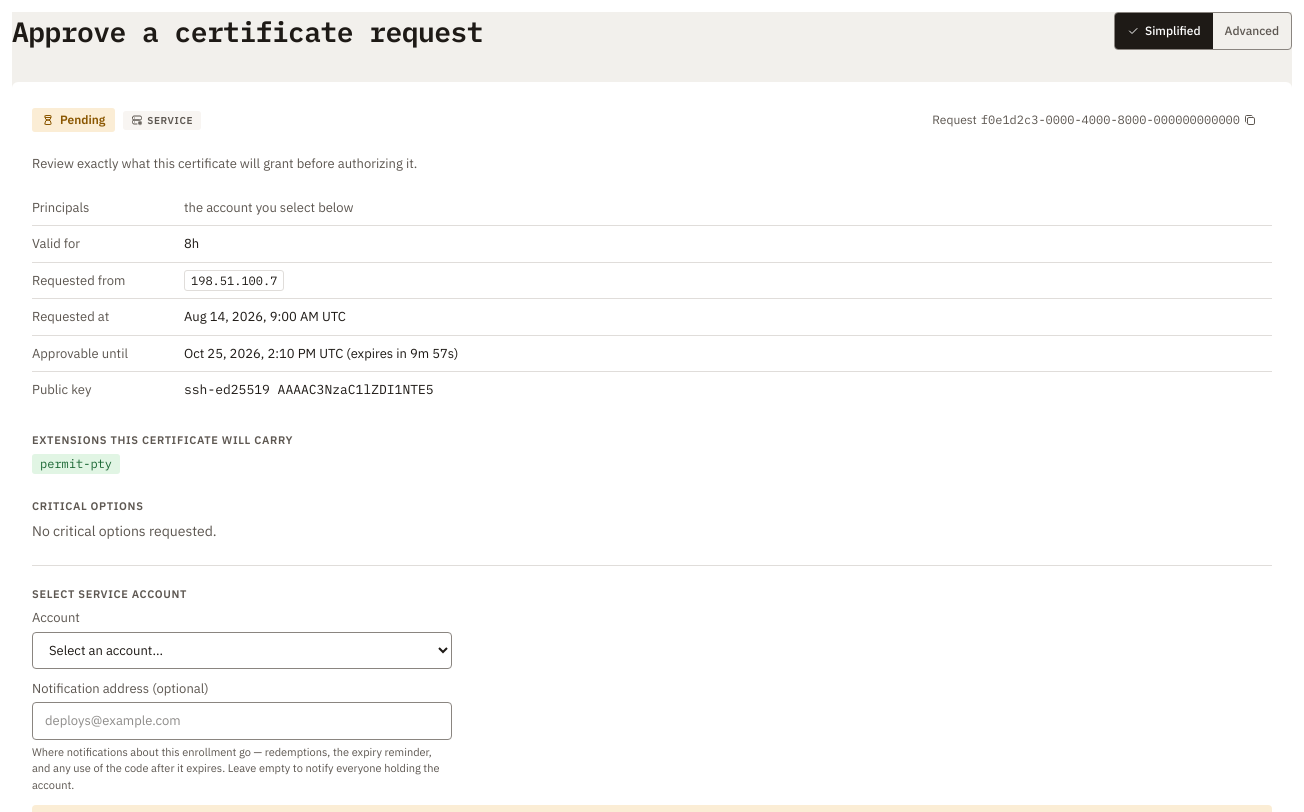
Test: ApprovalView › service account picker › the Principals row › should show the chosen service account
Select "svc-b" in the dropdown at (242, 650), box [32, 632, 452, 668]
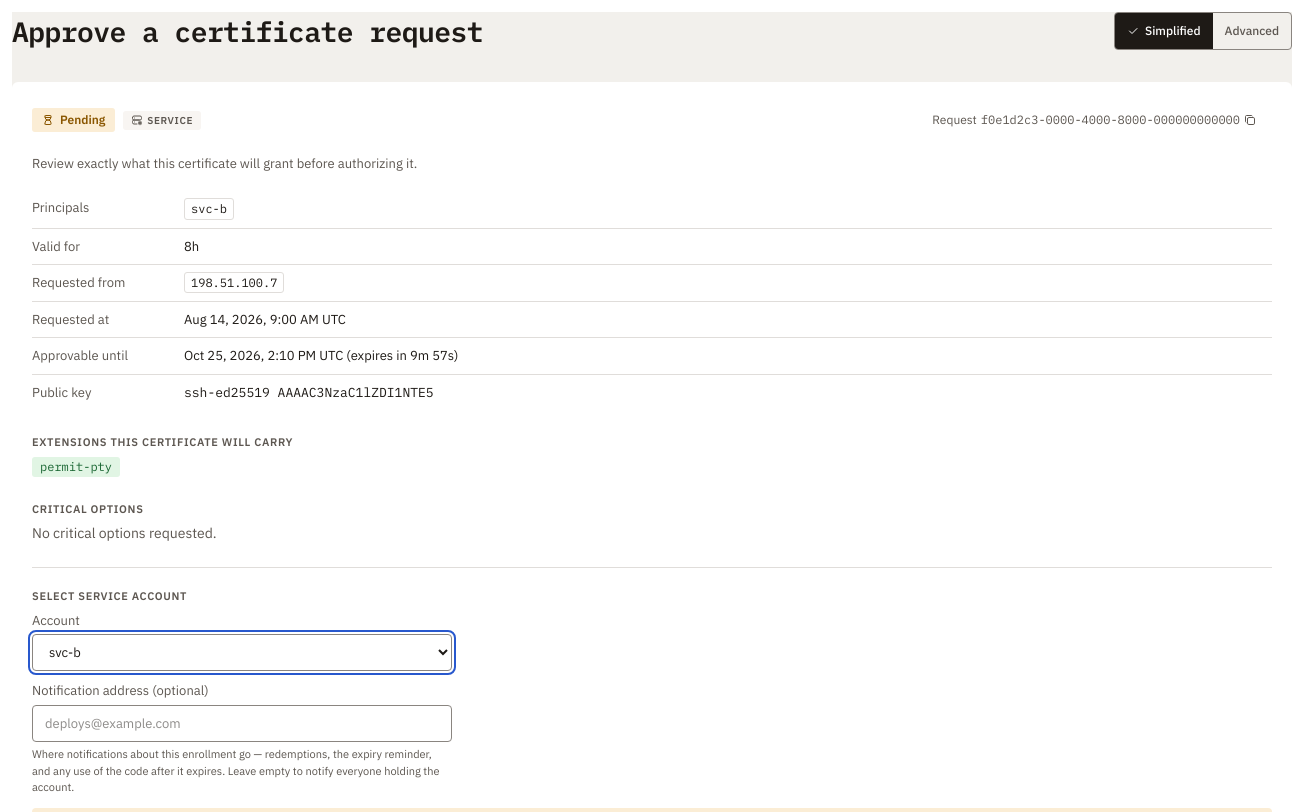
Expected: the element showing "svc-b" is shown, [184, 198, 234, 220]
